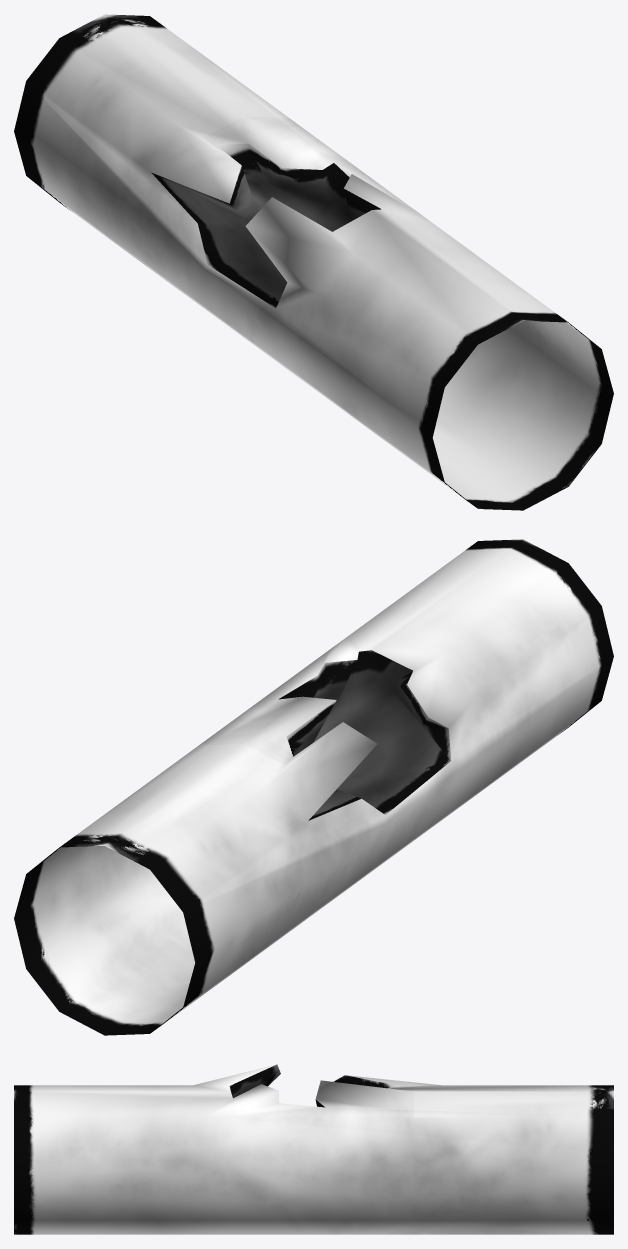
Rendered from Pipe-I-Broken.fbx.
The picture shows the model from 3 angles, top to bottom: view 1: azimuth 30°, elevation 25°; view 2: azimuth 150°, elevation 25°; view 3: azimuth 270°, elevation 25°; orthographic projection. The views are drawn at different scales.
Parts seen in each view (by area): view 1: Pipe-I-Broken; view 2: Pipe-I-Broken; view 3: Pipe-I-Broken.
Boxes of the visible parts, x1=… form: Pipe-I-Broken: x1=14, y1=14, x2=613, y2=510; Pipe-I-Broken: x1=14, y1=539, x2=613, y2=1035; Pipe-I-Broken: x1=14, y1=1064, x2=613, y2=1234.
Size of the model in its own units: 50.23 by 52.24 by 200.
Materials: 1 (1 with a texture image).
